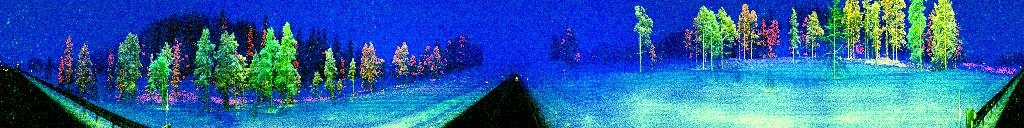pole: (164, 86, 170, 128), (958, 86, 962, 128)
